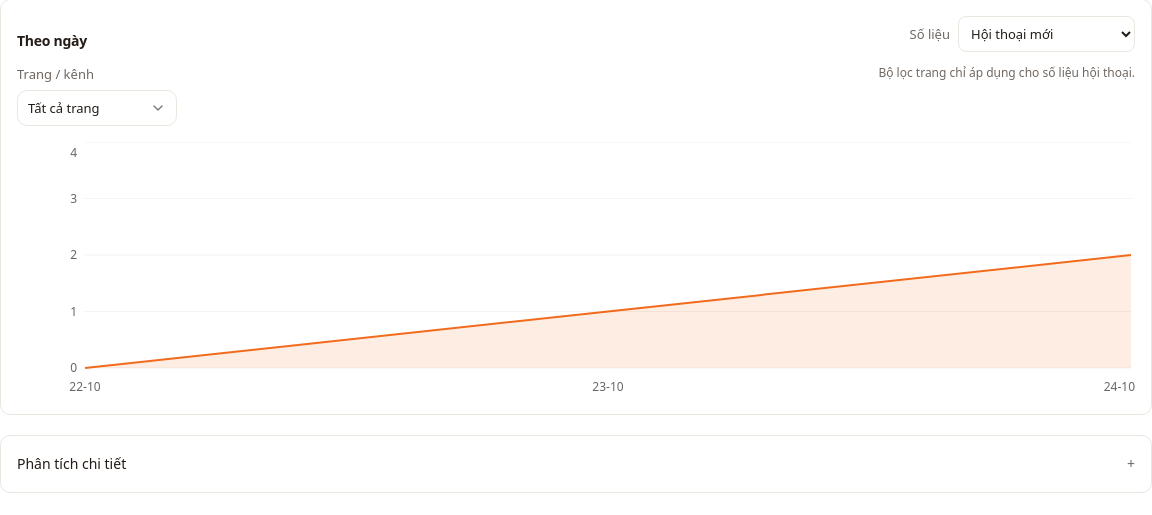
Scenario: StatisticsPage › shows four primary metrics before progressively disclosing the existing analysis
(page scrolled)
expect the heading "Nhãn được gắn" is not shown: met
Click the button "Phân tích chi tiết +" at (72, 463), box [1, 436, 1151, 492]
(page scrolled)
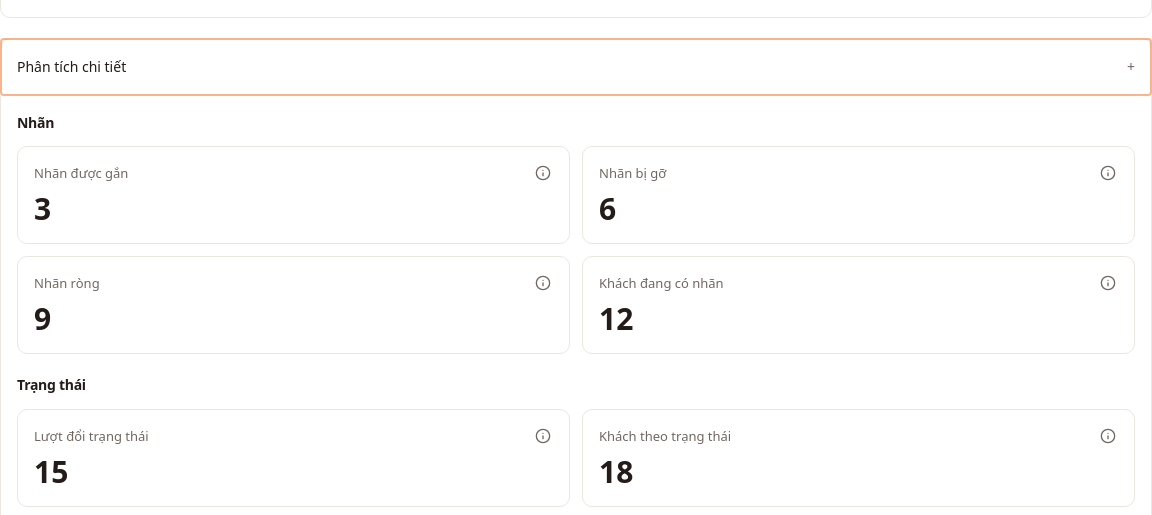
expect the heading "Nhãn được gắn" is shown: met, box [34, 163, 128, 183]
